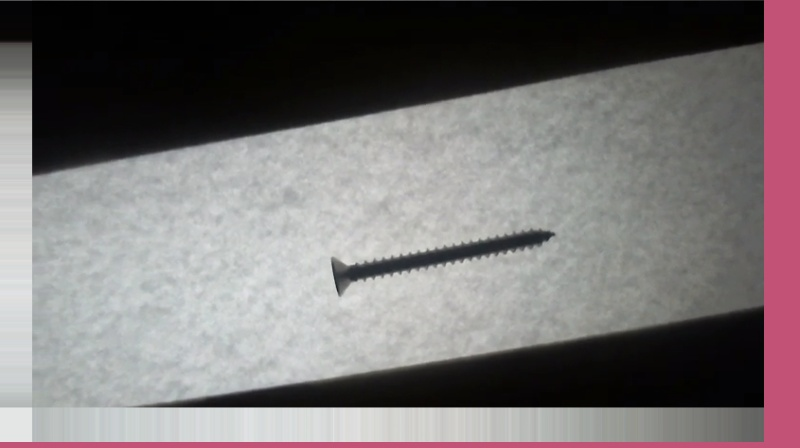S002: (327, 225, 558, 297)
